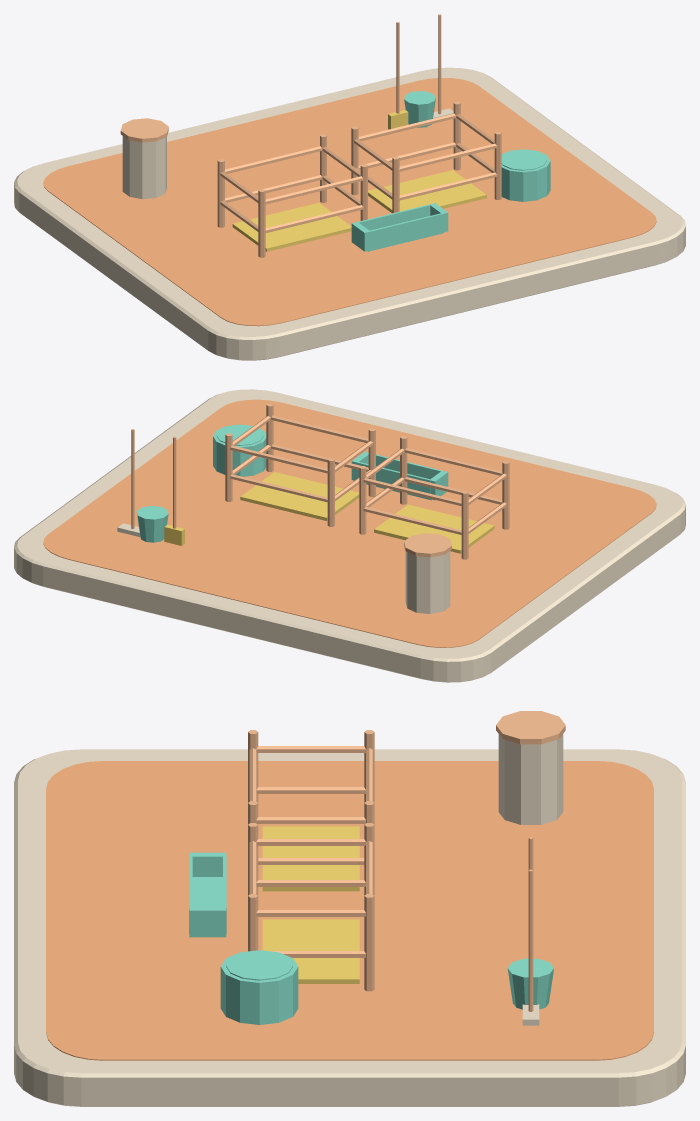
Rendered from room.fbx.
The picture shows the model from 3 angles, top to bottom: view 1: azimuth 30°, elevation 25°; view 2: azimuth 150°, elevation 25°; view 3: azimuth 270°, elevation 25°; orthographic projection. The views are drawn at different scales.
Parts seen in each view (by area): view 1: COM-02 Floor Surface, COM-01 Rounded Base Direct, Bedding zone, Feed bin, Bedding zone.001, Water tub, Bin end, Lid, Bucket, Bin end.001, Water surface, Fence rail.004 (+6 smaller); view 2: COM-02 Floor Surface, COM-01 Rounded Base Direct, Bedding zone.001, Feed bin, Bedding zone, Water tub, Bucket, Lid, Bin end.001, Bin end, Water surface, Fence rail.005 (+11 smaller); view 3: COM-02 Floor Surface, COM-01 Rounded Base Direct, Feed bin, Bedding zone.001, Bedding zone, Water tub, Lid, Bucket, Water surface, Bin side.001, Fence post.007, Bin bottom (+10 smaller).
Boxes of the visible parts, x1,y1,x2,y2 form: COM-02 Floor Surface: (43, 78, 656, 326); COM-01 Rounded Base Direct: (14, 67, 685, 360); Bedding zone: (232, 202, 351, 251); Feed bin: (122, 136, 166, 199); Bedding zone.001: (368, 170, 486, 212); Water tub: (501, 149, 550, 201); Bin end: (369, 213, 443, 250); Lid: (120, 118, 168, 142); Bucket: (404, 91, 435, 127); Bin end.001: (356, 204, 431, 230); Water surface: (501, 150, 546, 170); Fence rail.004: (399, 172, 497, 200); COM-02 Floor Surface: (43, 399, 656, 647); COM-01 Rounded Base Direct: (14, 389, 685, 682); Bedding zone.001: (240, 472, 359, 520); Feed bin: (405, 551, 450, 613); Bedding zone: (374, 504, 494, 553); Water tub: (213, 424, 266, 476); Bucket: (136, 506, 168, 542); Lid: (404, 533, 451, 557); Bin end.001: (356, 461, 431, 499); Bin end: (376, 454, 443, 479); Water surface: (216, 425, 263, 445); Fence rail.005: (230, 474, 328, 502); COM-02 Floor Surface: (46, 761, 653, 1060); COM-01 Rounded Base Direct: (14, 749, 685, 1106); Feed bin: (498, 734, 563, 824); Bedding zone.001: (262, 919, 359, 983); Bedding zone: (262, 826, 359, 891); Water tub: (220, 950, 298, 1024); Lid: (496, 711, 565, 744); Bucket: (507, 958, 553, 1009); Water surface: (226, 951, 292, 980); Bin side.001: (189, 906, 226, 937); Fence post.007: (364, 894, 374, 991); Bin bottom: (192, 877, 222, 906).
Bounding box in the file's own units: 600 × 158 × 520.
